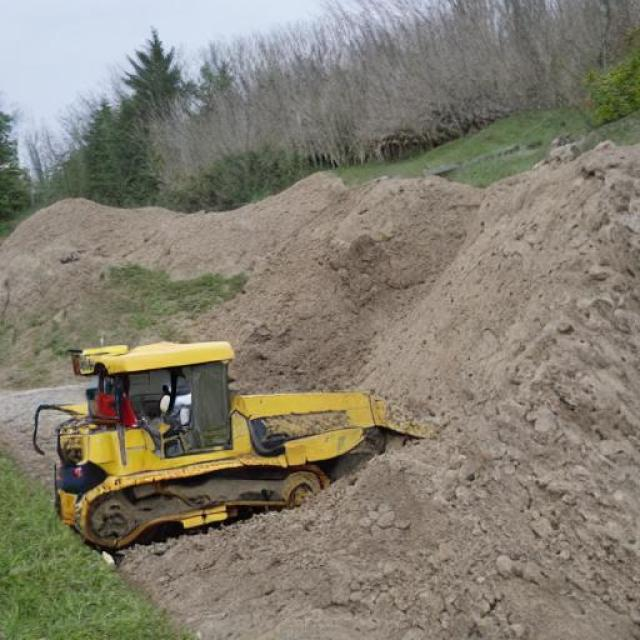machinery: (187, 122, 292, 352)
